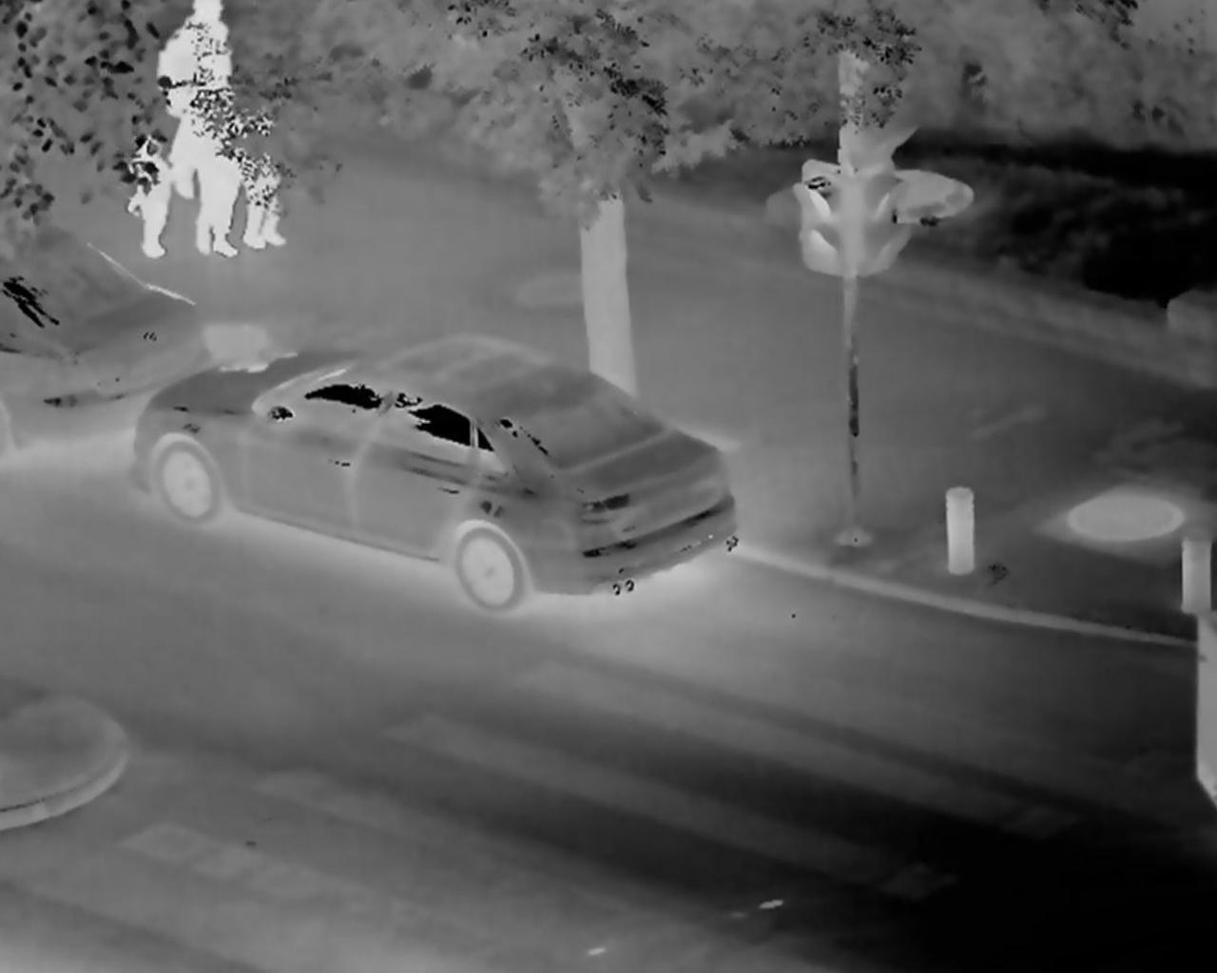person: (135, 2, 188, 257), (195, 55, 240, 255), (241, 98, 288, 245)
